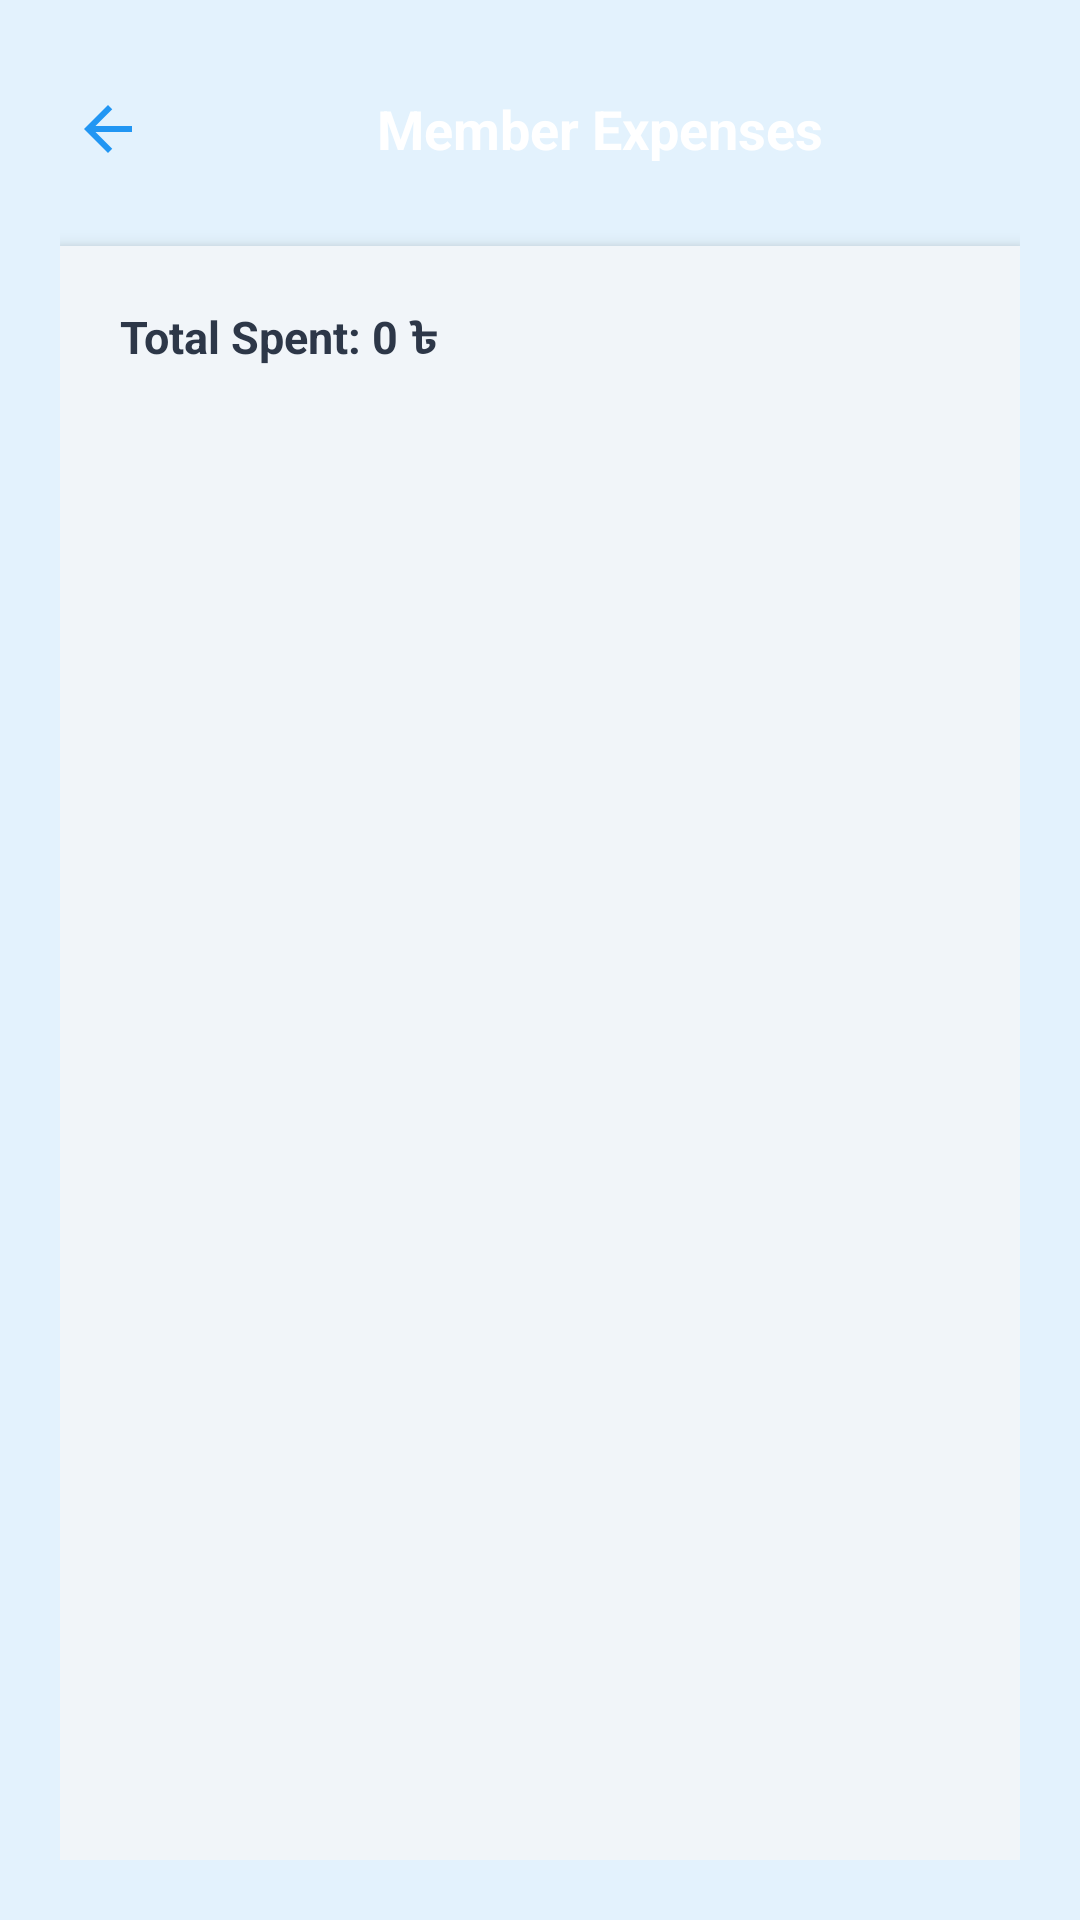

Where icons sit on this 1080×1920 app screen, as (x1, y1, x2, y2):
arrow back: (84, 105, 132, 153)
